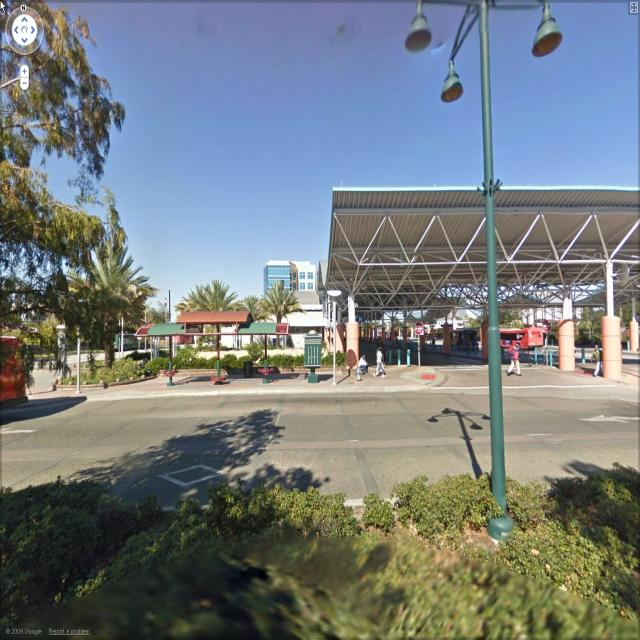b_1: (264, 254, 320, 294)
